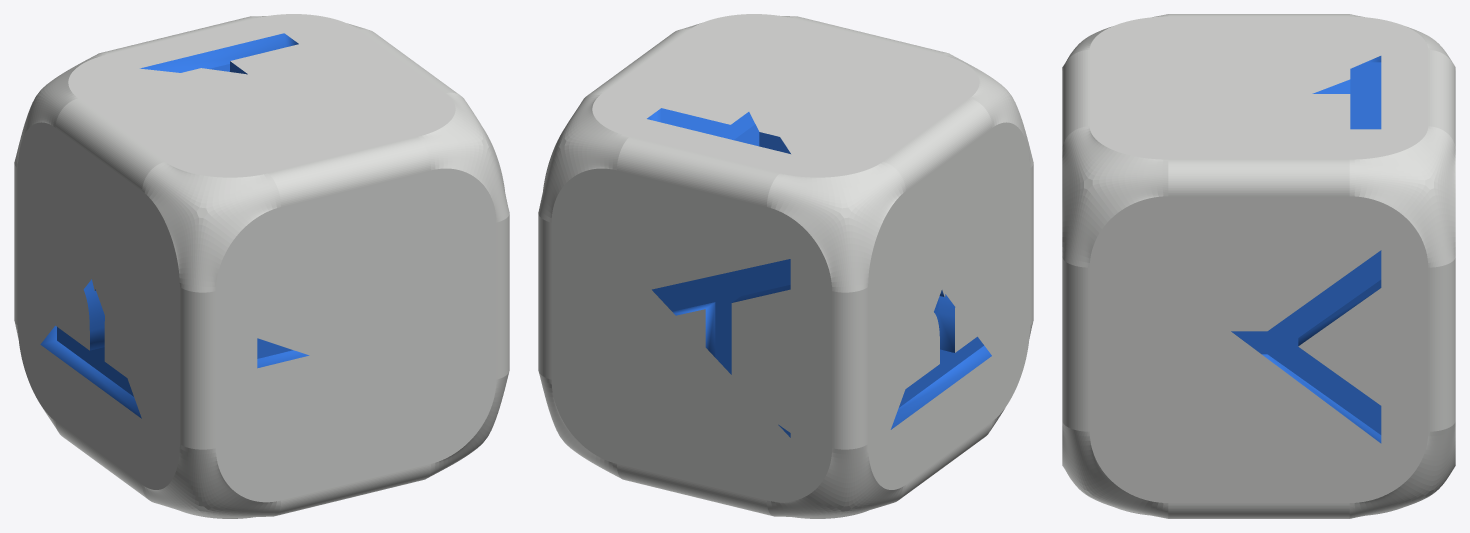
The model's file is BoggleDice.fbx_Die11.fbx.
The picture shows the model from 3 angles, left to right: view 1: azimuth 30°, elevation 25°; view 2: azimuth 150°, elevation 25°; view 3: azimuth 270°, elevation 25°; orthographic projection. The views are drawn at different scales.
Parts seen in each view (by area): view 1: Die11; view 2: Die11; view 3: Die11.
Boxes of the visible parts, bbox=[...] form: Die11: bbox=[14, 14, 509, 518]; Die11: bbox=[538, 14, 1033, 518]; Die11: bbox=[1062, 14, 1455, 518].
Size of the model in its own units: 200 by 200 by 200.
